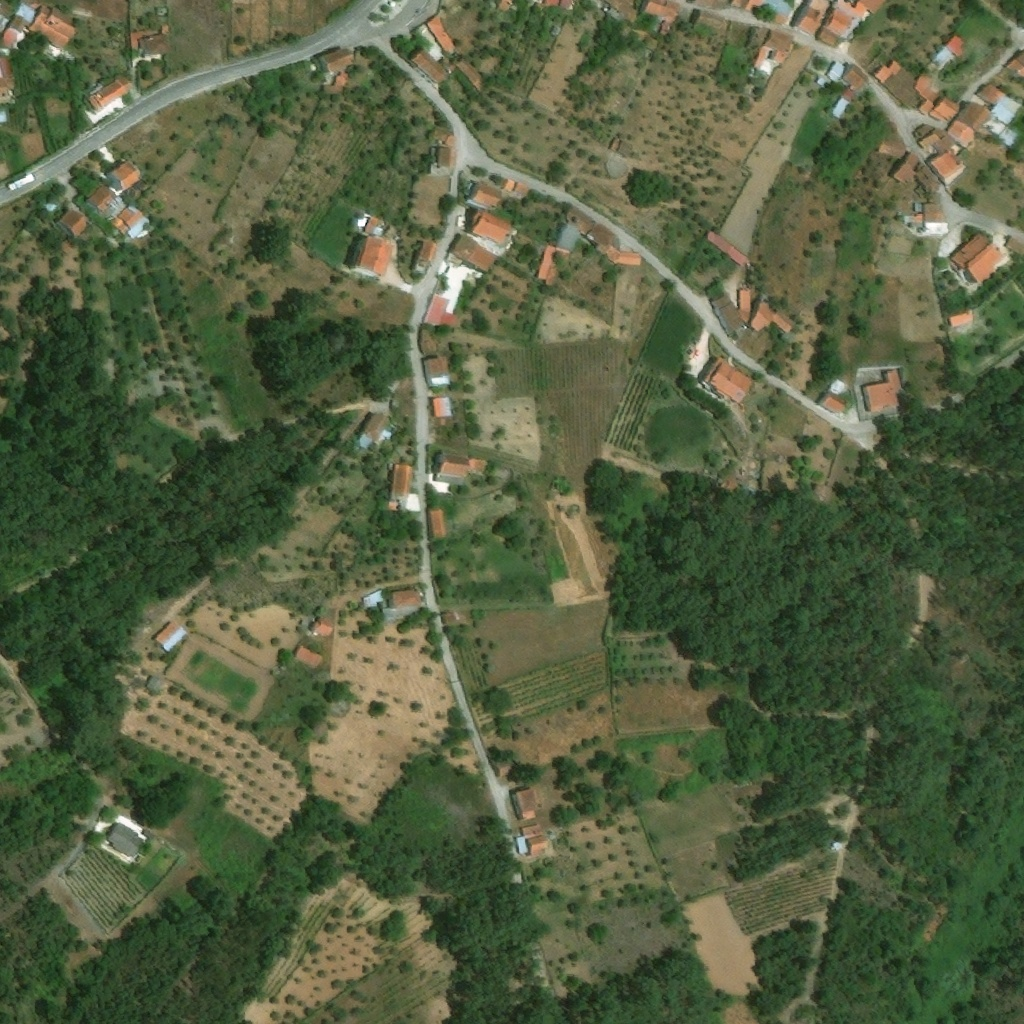0 no-damage: (951, 232, 1004, 285), (30, 5, 77, 49), (709, 360, 752, 404), (89, 73, 135, 112), (863, 369, 903, 411), (705, 229, 748, 267), (357, 235, 396, 275), (105, 821, 145, 859), (410, 48, 450, 85), (536, 244, 569, 288), (927, 151, 965, 186), (793, 0, 832, 34), (710, 294, 743, 334), (472, 209, 511, 242), (455, 55, 489, 92), (426, 13, 456, 53), (984, 115, 1019, 149), (955, 99, 991, 131), (106, 160, 141, 191), (815, 25, 850, 55), (424, 295, 456, 327), (111, 202, 144, 233), (893, 152, 920, 187), (604, 0, 642, 24), (59, 208, 88, 239), (823, 8, 854, 37), (928, 96, 961, 123), (511, 787, 537, 821), (946, 119, 975, 148), (991, 96, 1020, 125), (917, 130, 955, 152), (471, 182, 503, 207), (363, 411, 390, 440), (424, 356, 450, 386), (830, 88, 855, 119), (833, 0, 868, 22), (322, 47, 355, 70), (451, 231, 478, 259), (567, 205, 594, 233), (293, 645, 323, 670), (763, 29, 794, 53), (751, 299, 775, 330), (489, 752, 517, 778), (975, 83, 1005, 107), (392, 462, 414, 494), (644, 0, 681, 19), (588, 222, 615, 248), (440, 452, 469, 476), (89, 184, 114, 211), (843, 63, 868, 90), (138, 32, 170, 53), (873, 61, 901, 85), (918, 166, 941, 193), (471, 246, 498, 269), (694, 11, 725, 31), (0, 24, 25, 48), (924, 192, 945, 220), (558, 222, 579, 250), (878, 138, 907, 158), (429, 508, 448, 538), (154, 622, 177, 646), (362, 214, 386, 237), (126, 216, 150, 239), (1004, 50, 1023, 79), (418, 326, 437, 354), (821, 394, 845, 416), (393, 588, 420, 607), (929, 47, 952, 69), (747, 25, 770, 46), (604, 236, 621, 264), (322, 75, 347, 94), (944, 35, 963, 60), (312, 615, 333, 636), (417, 239, 437, 261), (527, 835, 550, 854), (504, 178, 528, 196), (433, 395, 452, 417), (827, 61, 845, 82), (0, 76, 15, 101), (437, 147, 455, 167), (754, 46, 769, 69), (522, 824, 545, 839), (10, 13, 28, 32), (738, 289, 749, 320), (919, 222, 949, 233), (364, 588, 383, 605), (617, 252, 641, 265), (514, 835, 529, 855), (469, 457, 489, 472), (445, 252, 465, 267), (442, 609, 460, 624), (0, 57, 13, 76), (773, 49, 788, 64), (919, 100, 933, 114), (815, 75, 828, 88), (550, 25, 562, 36), (414, 262, 426, 272), (0, 108, 8, 122), (388, 499, 398, 510), (903, 215, 915, 223), (914, 213, 923, 223), (915, 202, 923, 213)
4 un-classified: (695, 0, 731, 14), (859, 0, 890, 13), (742, 0, 766, 15), (0, 0, 16, 20), (495, 0, 516, 15), (1005, 278, 1021, 296), (543, 0, 573, 9), (0, 15, 9, 32)
